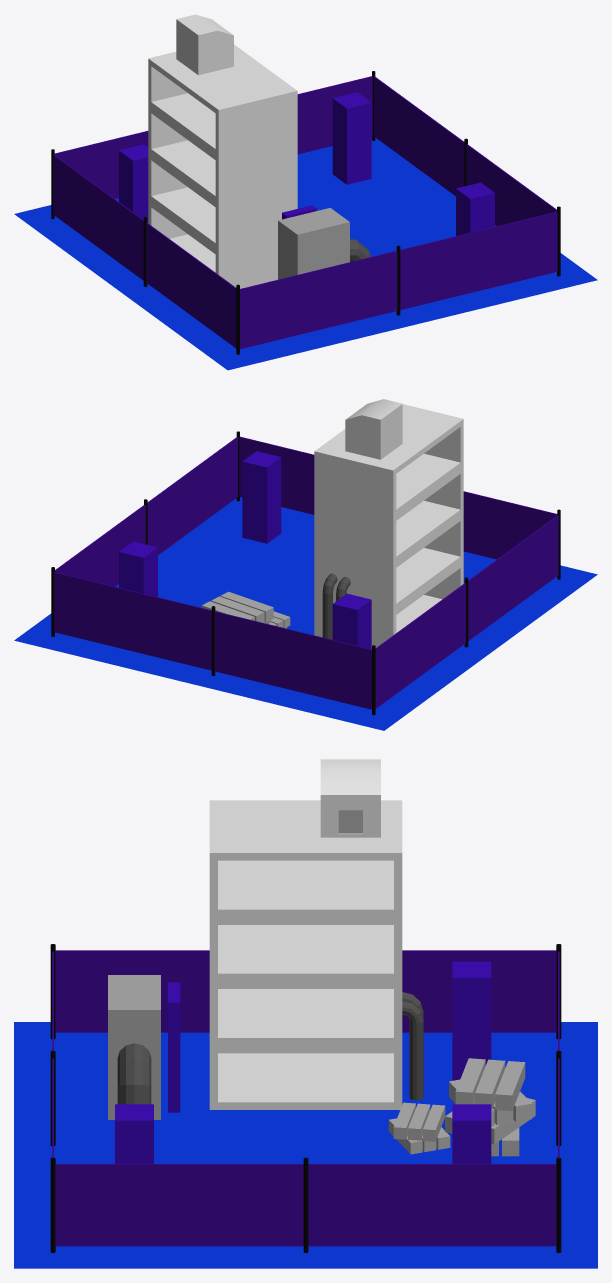
The model's file is 22_blue.fbx.
The picture shows the model from 3 angles, top to bottom: view 1: azimuth 30°, elevation 25°; view 2: azimuth 150°, elevation 25°; view 3: azimuth 270°, elevation 25°; orthographic projection. The views are drawn at different scales.
Visible parts, largest first — view 1: pCube229, two_two1, pCube227, pCube228, pCube222, pCube217, pCube225, pCube233, pCube239, pCube226, pCube224, pCube241 (+3 smaller); view 2: pCube229, two_two1, pCube223, pCube224, pCube217, pCube222, pCube226, pCube228, pCube238, pCube225, pCube241, pCube227 (+5 smaller); view 3: two_two1, pCube229, pCube225, pCube226, pCube222, pCube217, pCube233, pCube241, pCube240, pCube239, pCube238, pCylinder44 (+5 smaller).
Boxes of the visible parts, x1,y1,x2,y2 form: pCube229: (148,44,297,288); two_two1: (14,136,597,370); pCube227: (400,211,557,309); pCube228: (240,250,397,349); pCube222: (53,154,143,280); pCube217: (146,222,236,348); pCube225: (374,76,464,195); pCube233: (278,208,349,279); pCube239: (332,92,371,184); pCube226: (466,144,556,226); pCube224: (297,76,372,154); pCube241: (176,14,233,75); pCube229: (314,404,463,648); two_two1: (14,497,597,730); pCube223: (214,611,371,709); pCube224: (54,572,211,670); pCube217: (468,515,558,640); pCube222: (375,583,465,708); pCube226: (147,437,237,554); pCube228: (463,491,557,559); pCube238: (242,451,281,543); pCube225: (55,505,145,586); pCube241: (345,399,402,459); pCube227: (239,436,314,514); two_two1: (14,1022,597,1268); pCube229: (209,800,402,1109); pCube225: (308,1164,556,1246); pCube226: (55,1164,303,1246); pCube222: (402,950,556,1032); pCube217: (55,950,209,1032); pCube233: (108,975,160,1119); pCube241: (320,759,380,837); pCube240: (452,961,491,1080); pCube239: (452,1104,491,1163); pCube238: (115,1104,153,1163); pCylinder44: (117,1043,151,1104).
Size of the model in its own units: 2 by 1.2 by 2.
